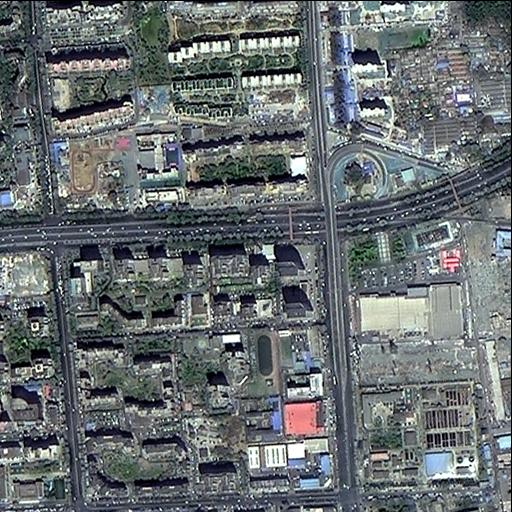school: (49, 119, 181, 209), (237, 323, 285, 444)
